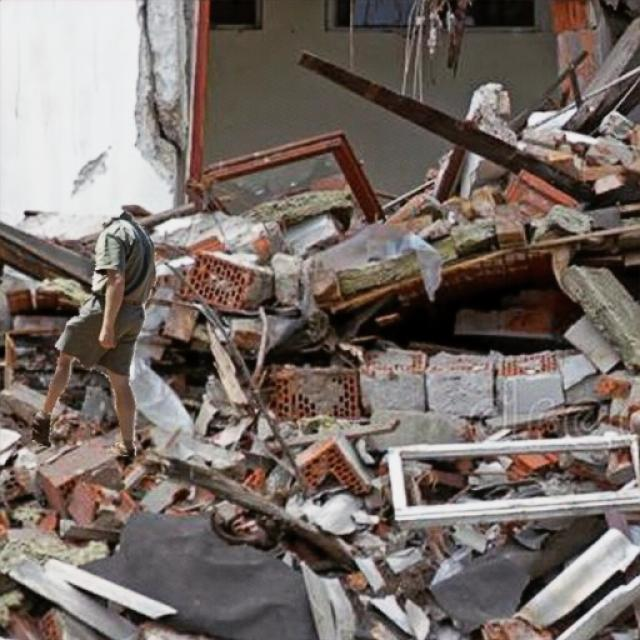Person in Rubble: (32, 209, 156, 455)
